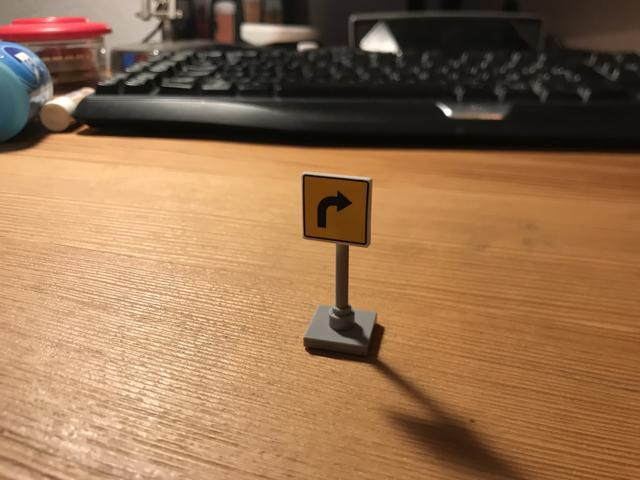fahrtrichtung rechts: (300, 173, 373, 247)
